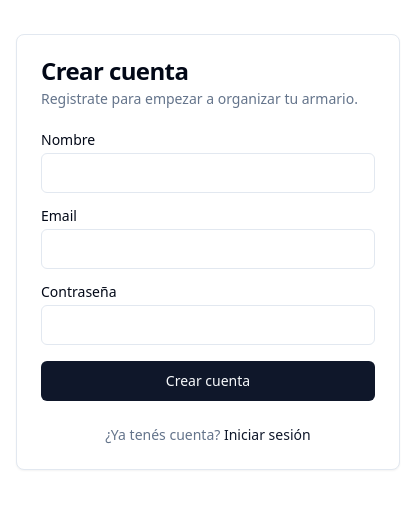
Scenario: RegisterPage › ante error del servidor (409) muestra el mensaje y NO navega
In the field labelled "Nombre": point(208, 173) [41,153,375,193], type "Nico"
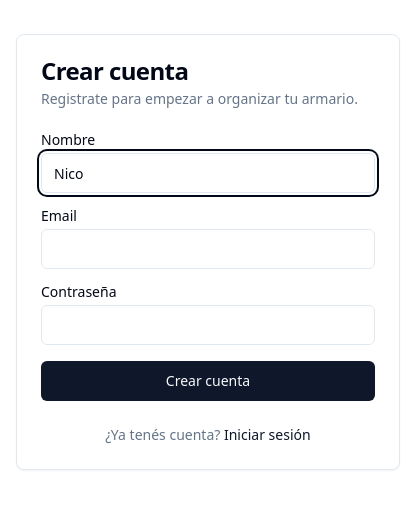
In the field labelled "Email": point(208, 249) [41,229,375,269], type "nuevo@b.com"
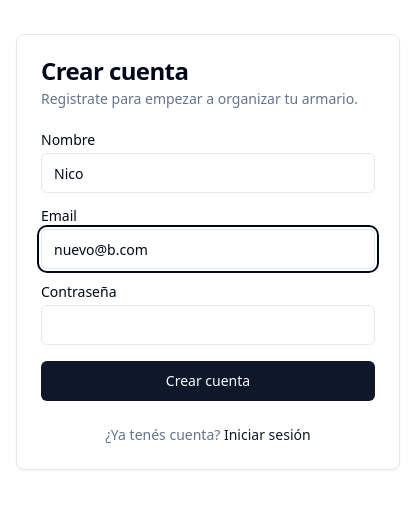
In the password field labelled "Contraseña": point(208, 325) [41,305,375,345], type "secret123"
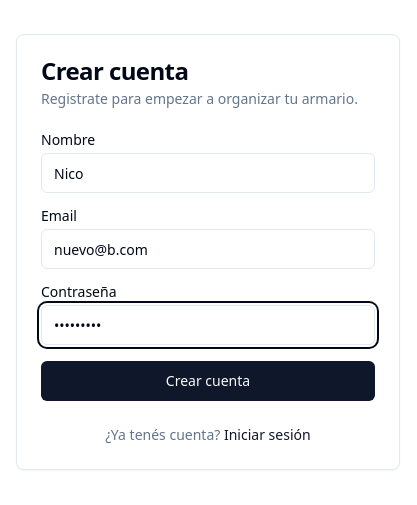
Click the button "Crear cuenta": point(208, 381) [41,361,375,401]
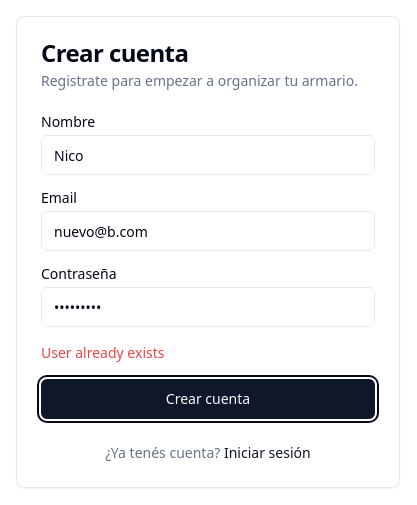
expect the text "User already exists" is shown: met, box [41,343,164,362]
